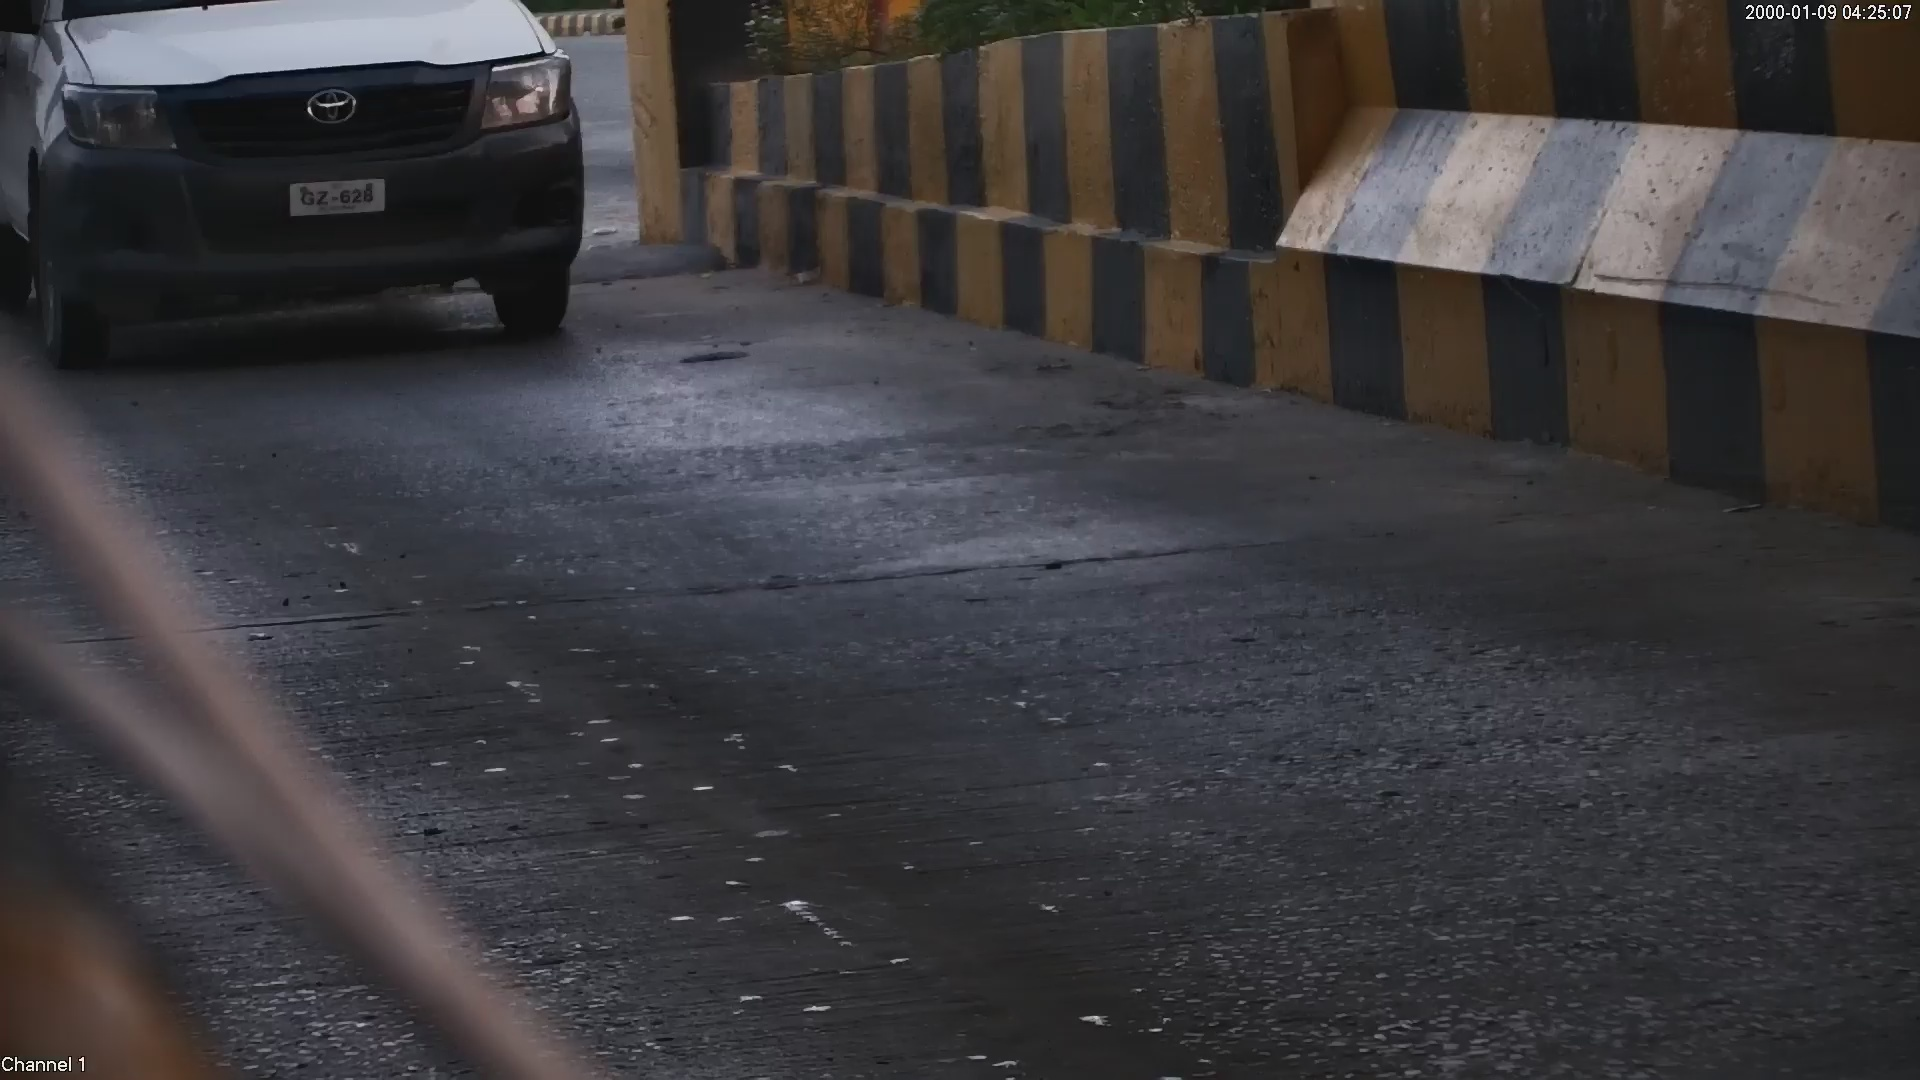Number_Plate: (276, 177, 402, 223)
